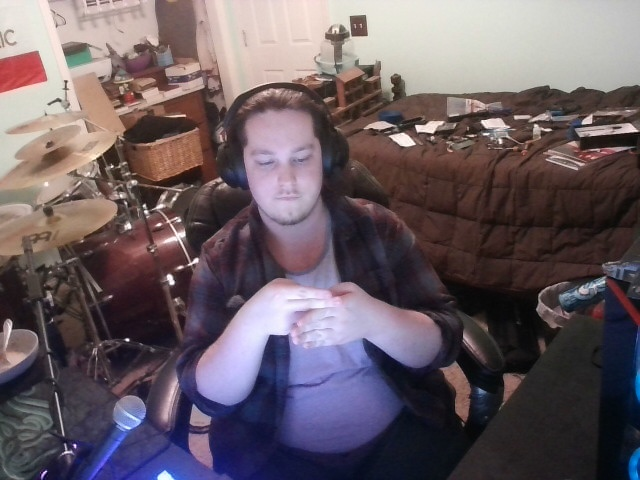name: (232, 256, 380, 381)
